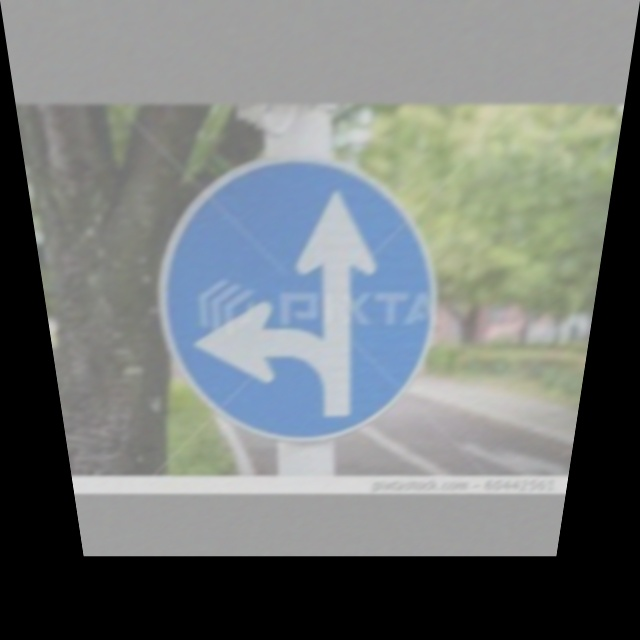Compulsory_Ahead_or_Turn_Left: (147, 164, 448, 431)
